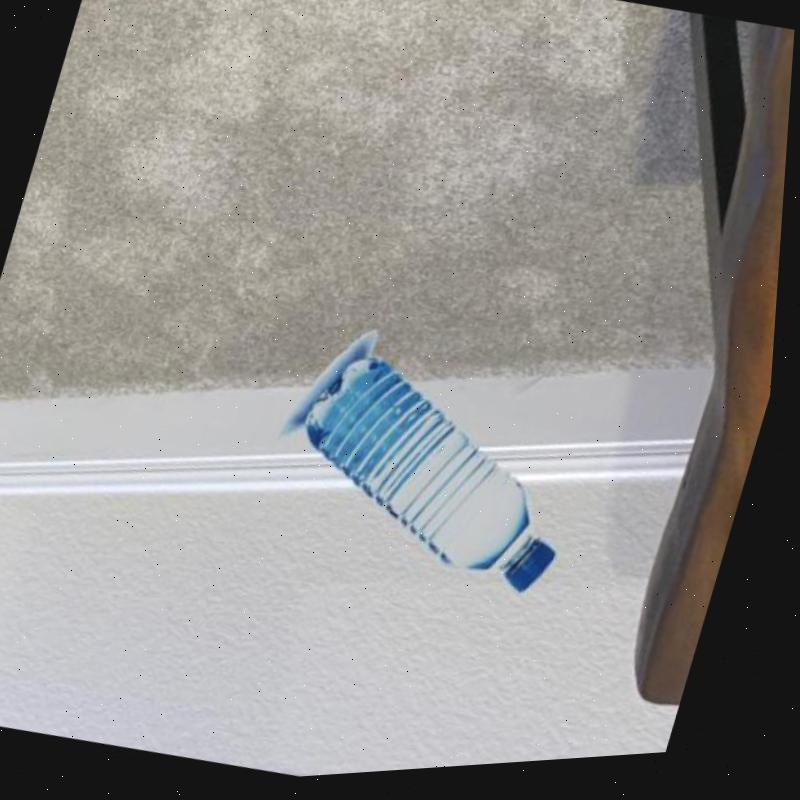botella: (267, 337, 612, 621)
